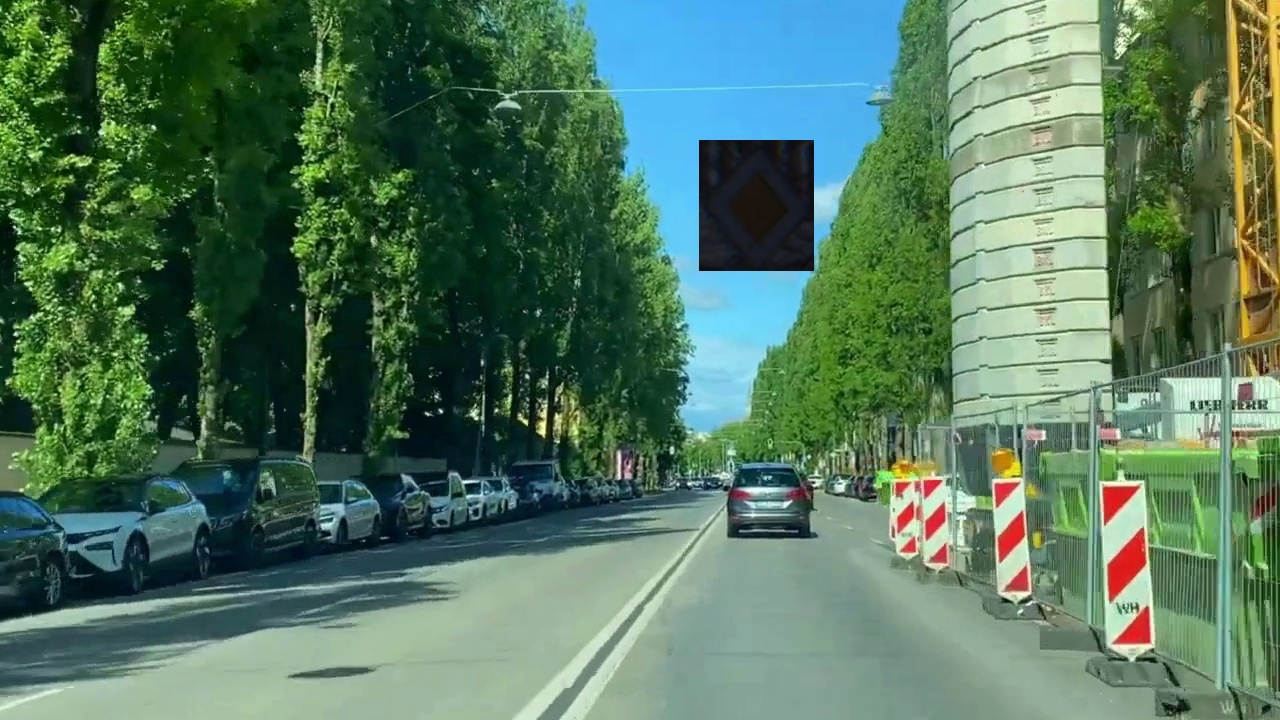Priority road: (699, 140, 814, 271)
